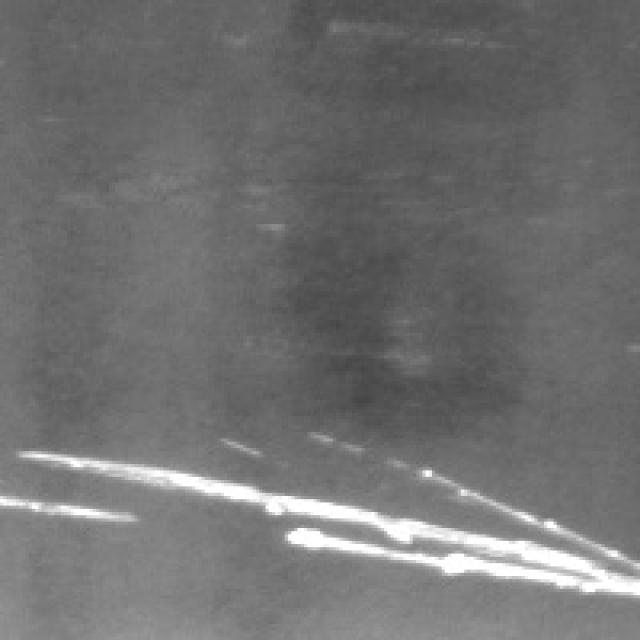scratches: (3, 429, 637, 592)
